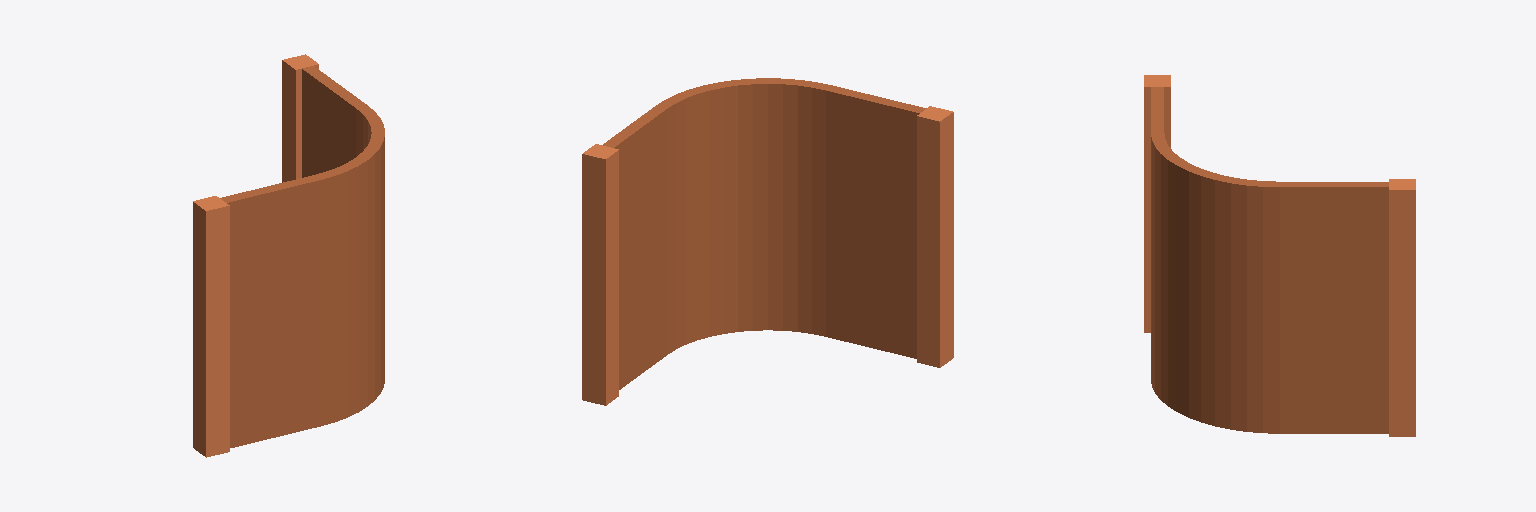
The model's file is wallWoodRounded.obj.
3 views of the same model, side by side, from view 1: azimuth 30°, elevation 25°; view 2: azimuth 150°, elevation 25°; view 3: azimuth 270°, elevation 25° (orthographic).
Visible parts, largest first — view 1: wallWoodRounded; view 2: wallWoodRounded; view 3: wallWoodRounded.
Part boxes in pixels (x1,y1,x2,y2): wallWoodRounded: (193,54,384,457); wallWoodRounded: (582,78,953,405); wallWoodRounded: (1144,75,1415,436).
Size of the model in its own units: 1 by 1 by 1.